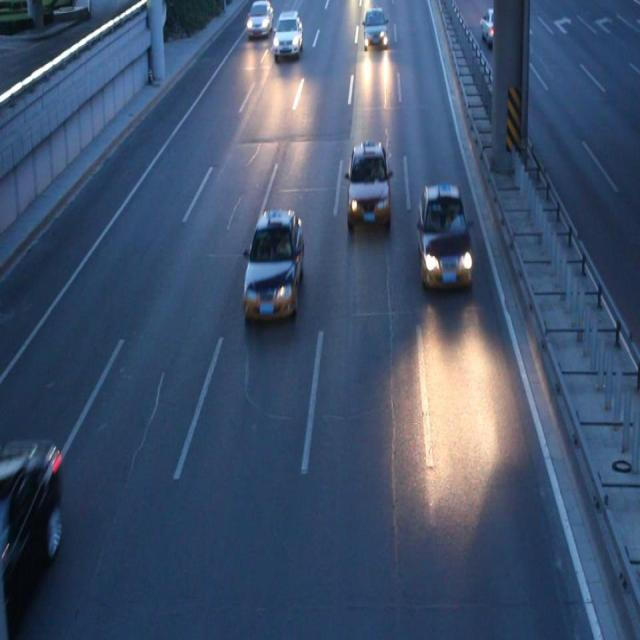car: (1, 435, 61, 640), (243, 208, 303, 322), (416, 184, 473, 290), (344, 142, 392, 229), (273, 10, 302, 56), (361, 9, 388, 50), (247, 2, 272, 34)
